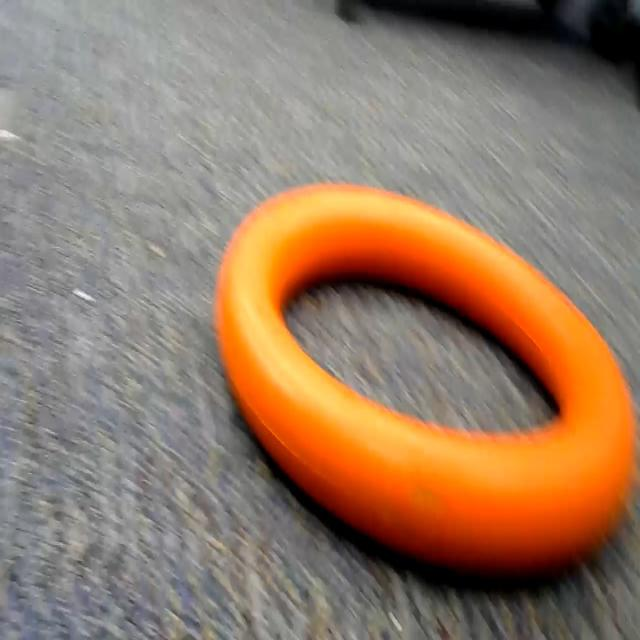note: (221, 183, 640, 639)
